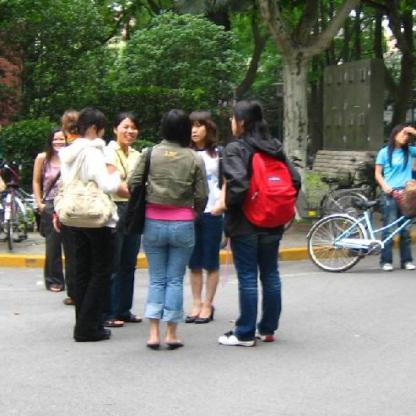person: (216, 95, 293, 348), (134, 109, 205, 352), (25, 121, 75, 293), (370, 122, 416, 271)
